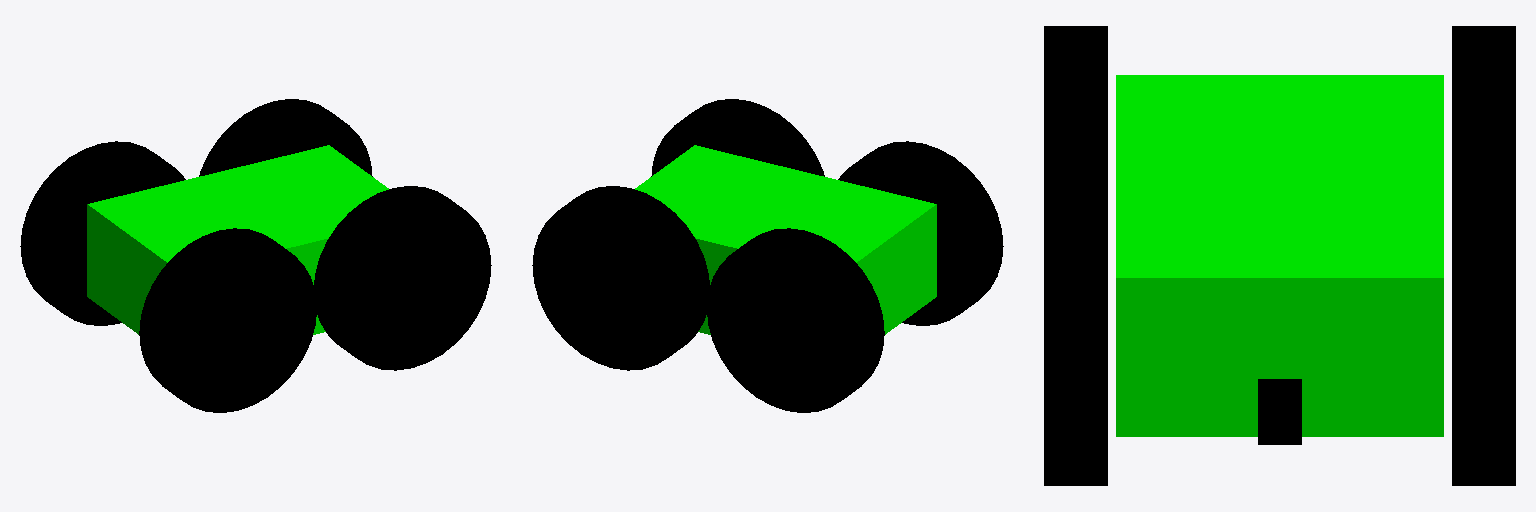
The robot description file, URDF, robot "smb":
<?xml version="1.0" ?>
<!-- =================================================================================== -->
<!-- |    This document was autogenerated by xacro from [local-path]/catkin_ws/src/smb_common/smb_description/urdf/smb_standalone.urdf.xacro | -->
<!-- |    EDITING THIS FILE BY HAND IS NOT RECOMMENDED                                 | -->
<!-- =================================================================================== -->
<robot name="smb"
  xmlns:xacro="http://www.ros.org/wiki/xacro">
  <!-- Materials -->
  <material name="black">
    <color rgba="0 0 0 255"/>
  </material>
  <material name="blue">
    <color rgba="0 0 200 255"/>
  </material>
  <material name="green">
    <color rgba="0 200 0 255"/>
  </material>
  <material name="grey">
    <color rgba="50 50 50 255"/>
  </material>
  <material name="orange">
    <color rgba="255 108 10 255"/>
  </material>
  <material name="brown">
    <color rgba="222 207 195 255"/>
  </material>
  <material name="red">
    <color rgba="200 0 0 255"/>
  </material>
  <material name="white">
    <color rgba="255 255 255 255"/>
  </material>
  <!-- continuous for gazebo -->
  <!-- Global Properties -->
  <!--xacro:property name="robot_name" value="smb"/-->
  <link name="base">
    <collision>
      <origin rpy="0 0 0" xyz="0 0 0"/>
      <geometry>
        <box size="0.6 0.41 0.22"/>
      </geometry>
    </collision>
    <visual>
      <origin rpy="0 0 0" xyz="0 0 0"/>
      <geometry>
        <box size="0.6 0.41 0.22"/>
      </geometry>
      <material name="green"/>
    </visual>
  </link>

  <!-- Fixed joint to add dummy inertia link -->
  <joint name="base_to_base_inertia" type="fixed">
    <parent link="base"/>
    <child link="base_inertia"/>
    <origin rpy="0 0 0" xyz="0 0 0"/>
  </joint>
  <!-- Dummy inertia link, because KDL cannot have inertia on the base link -->
  <link name="base_inertia">
    <inertial>
      <origin rpy="0 0 0" xyz="0.0 -0.02 0.047"/>
      <mass value="74.62"/>
      <inertia ixx="0.721666666667" ixy="0" ixz="0" iyy="1.36133333333" iyz="0" izz="1.36133333333"/>
    </inertial>
  </link>

  <joint name="LF_WHEEL" type="continuous">
    <parent link="base"/>
    <child link="LF_WHEEL"/>
    <origin rpy="1.57079632679 0 0" xyz="0.2159 0.255 0.0"/>
    <axis rpy="0 0 0" xyz="0 0 1"/>
    <dynamics damping="0.0" friction="0.0"/>
    <limit effort="65" velocity="25"/>
    <joint_properties damping="0.2" friction="0.2"/>
  </joint>
  <link name="LF_WHEEL">
    <collision>
      <origin rpy="0 0 0" xyz="0 0 0"/>
      <geometry>
        <cylinder length="0.08" radius="0.1975"/>
      </geometry>
    </collision>
    <visual>
      <origin rpy="0 0 0" xyz="0 0 0"/>
      <geometry>
        <cylinder length="0.08" radius="0.1975"/>
      </geometry>
      <material name="black"/>
    </visual>
    <inertial>
      <origin rpy="0 0 0" xyz="0 0 0"/>
      <mass value="5.73"/>
      <inertia ixx="0.059" ixy="0" ixz="0" iyy="0.059" iyz="0" izz="0.112"/>
    </inertial>
  </link>

  <joint name="RF_WHEEL" type="continuous">
    <parent link="base"/>
    <child link="RF_WHEEL"/>
    <origin rpy="1.57079632679 0 0" xyz="0.2159 -0.255 0.0"/>
    <axis rpy="0 0 0" xyz="0 0 1"/>
    <dynamics damping="0.0" friction="0.0"/>
    <limit effort="65" velocity="25"/>
    <joint_properties damping="0.2" friction="0.2"/>
  </joint>
  <link name="RF_WHEEL">
    <collision>
      <origin rpy="0 0 0" xyz="0 0 0"/>
      <geometry>
        <cylinder length="0.08" radius="0.1975"/>
      </geometry>
    </collision>
    <visual>
      <origin rpy="0 0 0" xyz="0 0 0"/>
      <geometry>
        <cylinder length="0.08" radius="0.1975"/>
      </geometry>
      <material name="black"/>
    </visual>
    <inertial>
      <origin rpy="0 0 0" xyz="0 0 0"/>
      <mass value="5.73"/>
      <inertia ixx="0.059" ixy="0" ixz="0" iyy="0.059" iyz="0" izz="0.112"/>
    </inertial>
  </link>

  <joint name="LH_WHEEL" type="continuous">
    <parent link="base"/>
    <child link="LH_WHEEL"/>
    <origin rpy="1.57079632679 0 0" xyz="-0.2159 0.255 0.0"/>
    <axis rpy="0 0 0" xyz="0 0 1"/>
    <dynamics damping="0.0" friction="0.0"/>
    <limit effort="65" velocity="25"/>
    <joint_properties damping="0.2" friction="0.2"/>
  </joint>
  <link name="LH_WHEEL">
    <collision>
      <origin rpy="0 0 0" xyz="0 0 0"/>
      <geometry>
        <cylinder length="0.08" radius="0.1975"/>
      </geometry>
    </collision>
    <visual>
      <origin rpy="0 0 0" xyz="0 0 0"/>
      <geometry>
        <cylinder length="0.08" radius="0.1975"/>
      </geometry>
      <material name="black"/>
    </visual>
    <inertial>
      <origin rpy="0 0 0" xyz="0 0 0"/>
      <mass value="5.73"/>
      <inertia ixx="0.059" ixy="0" ixz="0" iyy="0.059" iyz="0" izz="0.112"/>
    </inertial>
  </link>

  <joint name="RH_WHEEL" type="continuous">
    <parent link="base"/>
    <child link="RH_WHEEL"/>
    <origin rpy="1.57079632679 0 0" xyz="-0.2159 -0.255 0.0"/>
    <axis rpy="0 0 0" xyz="0 0 1"/>
    <dynamics damping="0.0" friction="0.0"/>
    <limit effort="65" velocity="25"/>
    <joint_properties damping="0.2" friction="0.2"/>
  </joint>
  <link name="RH_WHEEL">
    <collision>
      <origin rpy="0 0 0" xyz="0 0 0"/>
      <geometry>
        <cylinder length="0.08" radius="0.1975"/>
      </geometry>
    </collision>
    <visual>
      <origin rpy="0 0 0" xyz="0 0 0"/>
      <geometry>
        <cylinder length="0.08" radius="0.1975"/>
      </geometry>
      <material name="black"/>
    </visual>
    <inertial>
      <origin rpy="0 0 0" xyz="0 0 0"/>
      <mass value="5.73"/>
      <inertia ixx="0.059" ixy="0" ixz="0" iyy="0.059" iyz="0" izz="0.112"/>
    </inertial>
  </link>

  <link name="imu">
    <visual>
      <origin rpy="0 0 0" xyz="0 0 0"/>
      <geometry>
        <box size="0.08 0.055 0.024"/>
      </geometry>
      <material name="black"/>
    </visual>
  </link>
  <joint name="imu" type="fixed">
    <parent link="base"/>
    <child link="imu"/>
    <origin rpy="3.14159 1.57079632679 0" xyz="0.312 0 -0.07"/>
  </joint>

</robot>

--- Facts derived from the render (not from the file) ---
Views: 3 orthographic renders of the robot side by side, from view 1: azimuth 30°, elevation 25°; view 2: azimuth 150°, elevation 25°; view 3: azimuth 270°, elevation 25°.
Model smb with 7 links and 6 joints (4 continuous, 2 fixed), rooted at base, posed all joints at 0.
Links seen in each view (by area): view 1: RH_WHEEL, RF_WHEEL, base, LH_WHEEL, LF_WHEEL; view 2: LH_WHEEL, LF_WHEEL, base, RH_WHEEL, RF_WHEEL; view 3: base, LF_WHEEL, RF_WHEEL, LH_WHEEL, RH_WHEEL, imu.
Boxes of the visible links, x1=… form: RH_WHEEL: x1=139, y1=228, x2=316, y2=412; RF_WHEEL: x1=314, y1=186, x2=491, y2=370; base: x1=87, y1=145, x2=388, y2=334; LH_WHEEL: x1=20, y1=141, x2=185, y2=325; LF_WHEEL: x1=199, y1=99, x2=372, y2=176; LH_WHEEL: x1=707, y1=228, x2=884, y2=412; LF_WHEEL: x1=532, y1=186, x2=709, y2=370; base: x1=635, y1=145, x2=936, y2=334; RH_WHEEL: x1=838, y1=141, x2=1003, y2=325; RF_WHEEL: x1=651, y1=99, x2=824, y2=176; base: x1=1116, y1=75, x2=1443, y2=436; LF_WHEEL: x1=1452, y1=171, x2=1515, y2=485; RF_WHEEL: x1=1044, y1=171, x2=1107, y2=485; LH_WHEEL: x1=1452, y1=26, x2=1515, y2=170; RH_WHEEL: x1=1044, y1=26, x2=1107, y2=170; imu: x1=1258, y1=379, x2=1301, y2=444.
Bounding box of the posed robot: 0.8268 × 0.59 × 0.395 m (x, y, z).
Geometry: primitives only (box / cylinder / sphere), no mesh files.